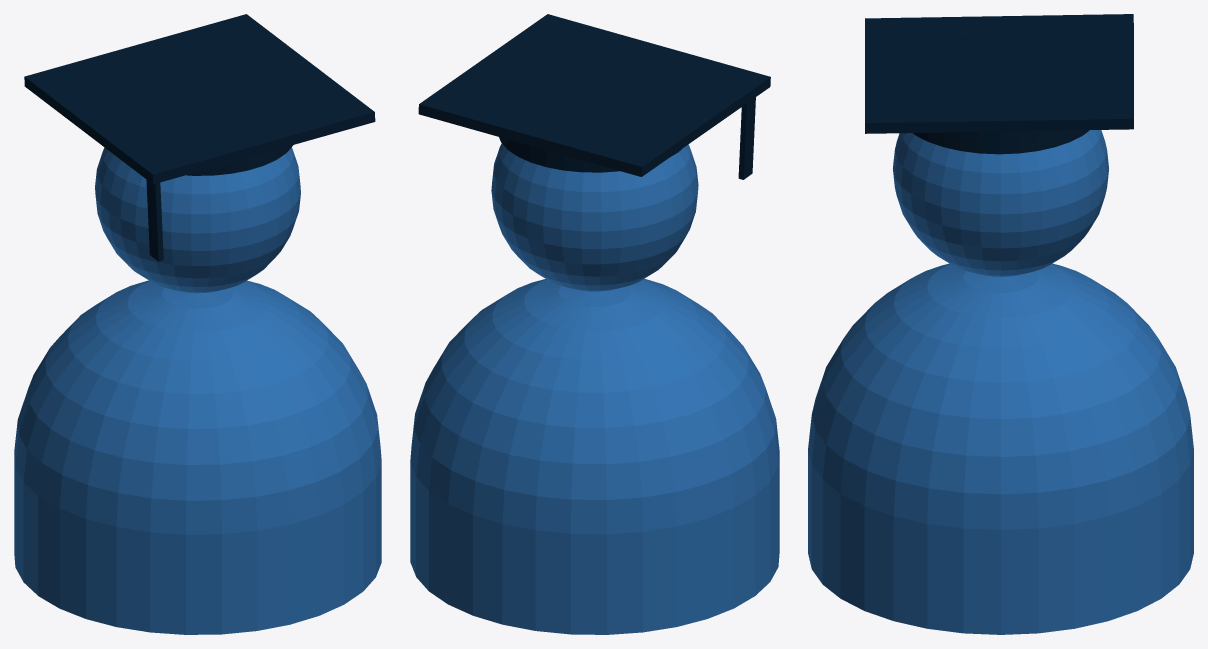
The model's file is etudiant5.glb.
The picture shows the model from 3 angles, left to right: view 1: azimuth 30°, elevation 25°; view 2: azimuth 150°, elevation 25°; view 3: azimuth 270°, elevation 25°; orthographic projection. The views are drawn at different scales.
Parts seen in each view (by area): view 1: Sphere, Cylinder, Cube, Sphere.001, Cylinder.001, Cube.001; view 2: Sphere, Cylinder, Cube, Sphere.001, Cylinder.001, Cube.001; view 3: Sphere, Cylinder, Cube, Sphere.001, Cylinder.001.
Boxes of the visible parts, box(x1,y1,x2,y2) form: Sphere: box(14, 280, 381, 534); Cylinder: box(14, 456, 381, 634); Cube: box(24, 14, 375, 184); Sphere.001: box(95, 147, 300, 293); Cylinder.001: box(125, 123, 293, 175); Cube.001: box(146, 179, 163, 261); Sphere: box(410, 278, 779, 534); Cylinder: box(410, 453, 779, 634); Cube: box(418, 14, 770, 176); Sphere.001: box(491, 143, 698, 291); Cylinder.001: box(499, 84, 691, 172); Cube.001: box(738, 97, 755, 179); Sphere: box(808, 263, 1193, 529); Cylinder: box(808, 449, 1193, 634); Cube: box(865, 14, 1133, 133); Sphere.001: box(893, 130, 1108, 276); Cylinder.001: box(913, 30, 1089, 154).
Size of the model in its own units: 0.7942 by 1.12 by 0.7942.
